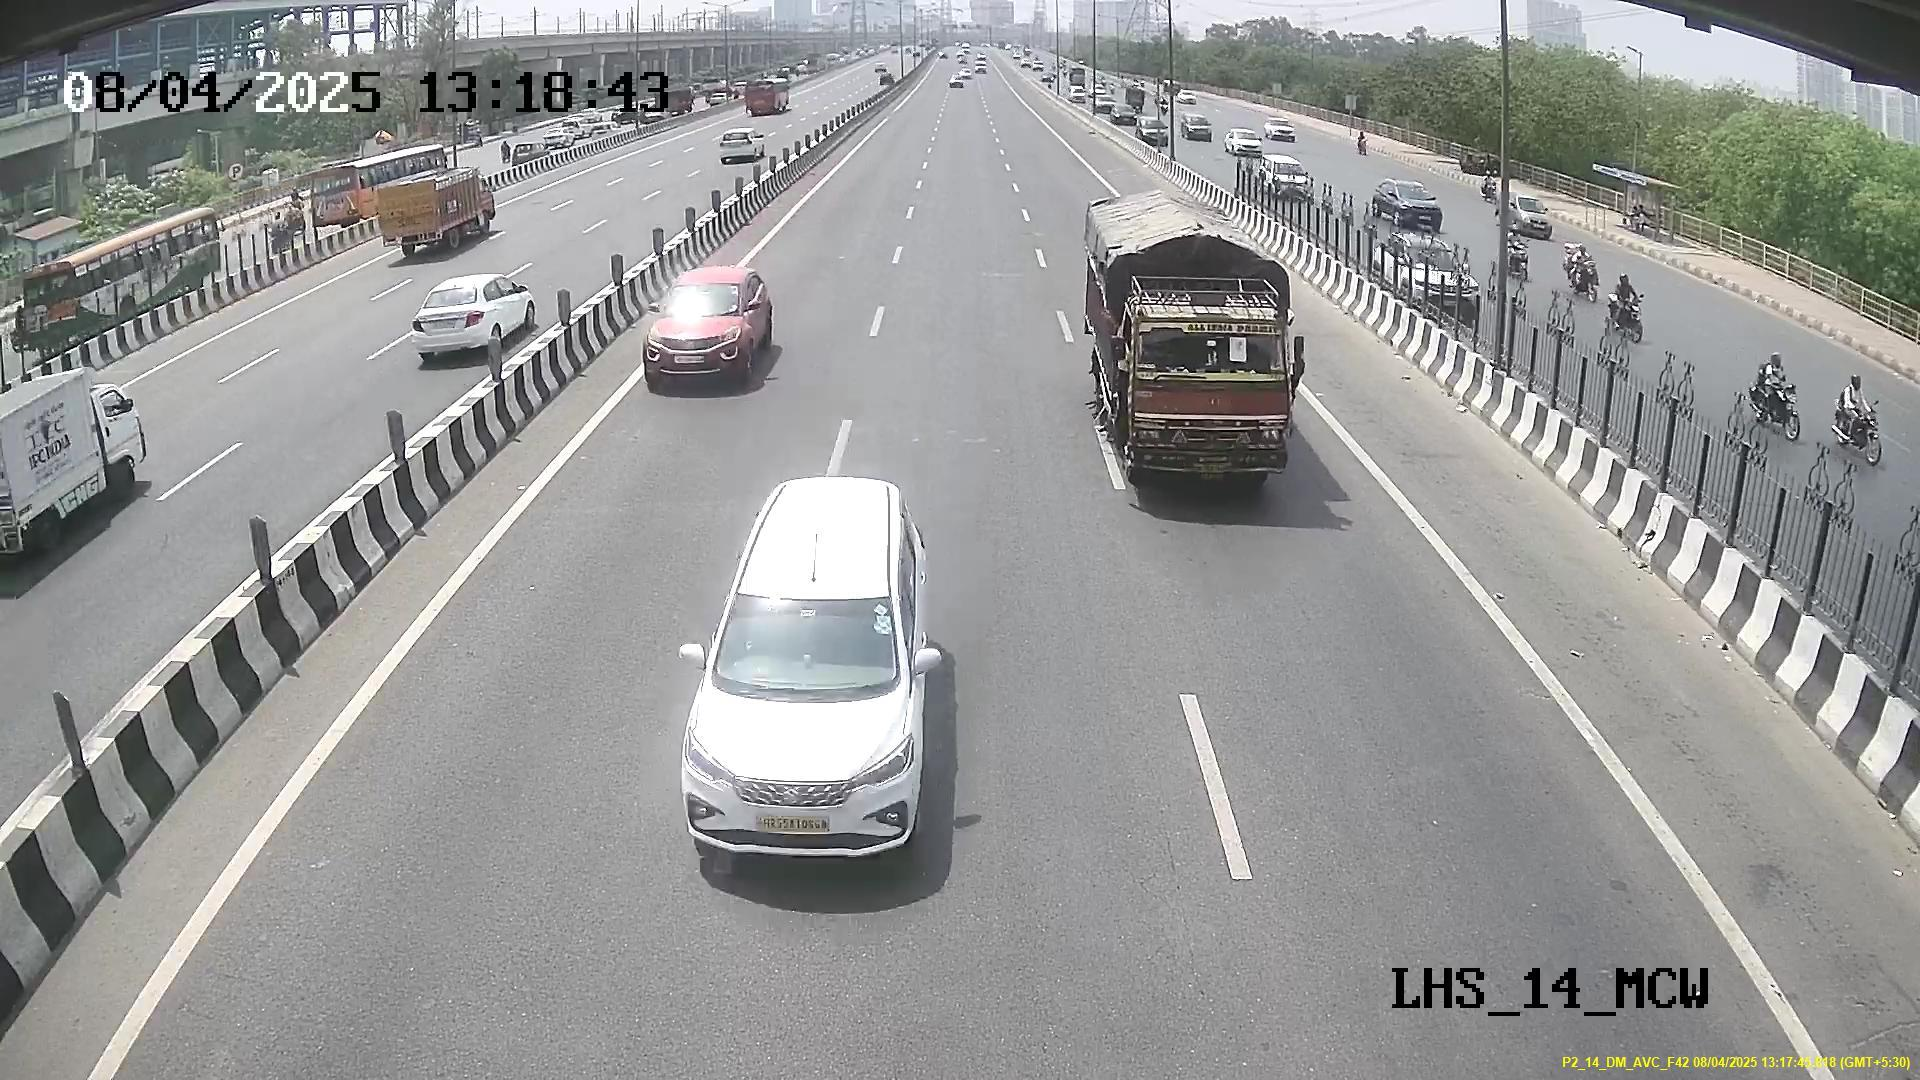car: (683, 562, 934, 865), (637, 270, 767, 394)
lcv: (1112, 305, 1294, 484)
